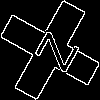Z: (25, 25, 80, 74)
